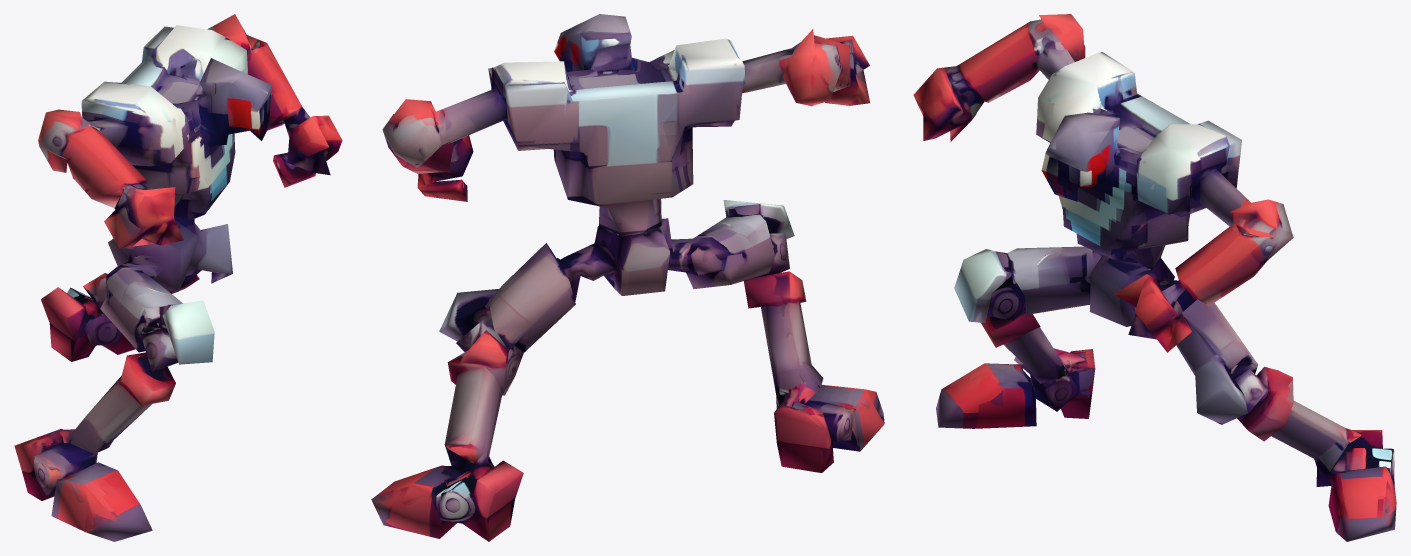
The model's file is tripo_convert_2ac1087a-e8de-4c03-9f1c-7439f60e2494.fbx.
3 renders of one model, left to right at view 1: azimuth 30°, elevation 25°; view 2: azimuth 150°, elevation 25°; view 3: azimuth 270°, elevation 25°, orthographic. The views are drawn at different scales.
Visible parts, largest first — view 1: tripo_node_2ac1087a; view 2: tripo_node_2ac1087a; view 3: tripo_node_2ac1087a.
Boxes of the visible parts, x1,y1,x2,y2 form: tripo_node_2ac1087a: (14, 14, 342, 541); tripo_node_2ac1087a: (371, 14, 884, 541); tripo_node_2ac1087a: (913, 14, 1396, 541).
Bounding box in the file's own units: 0.8568 × 0.9073 × 0.9897.
Materials: 1 (1 with a texture image).
